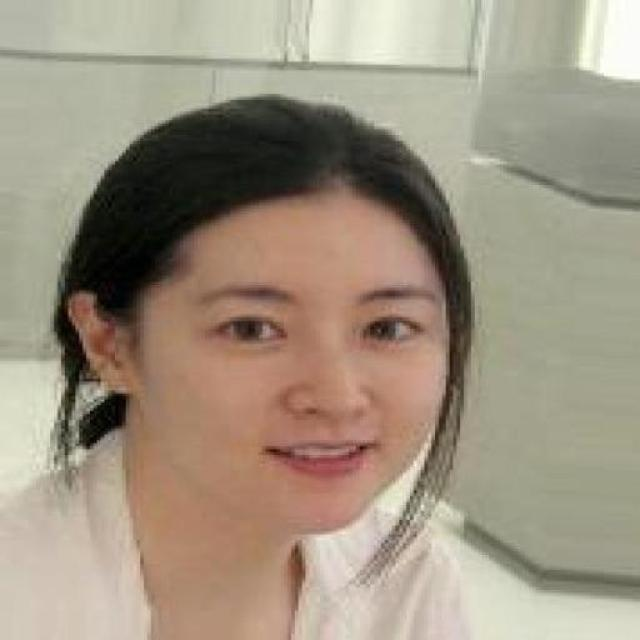bareface: (71, 104, 460, 528)
